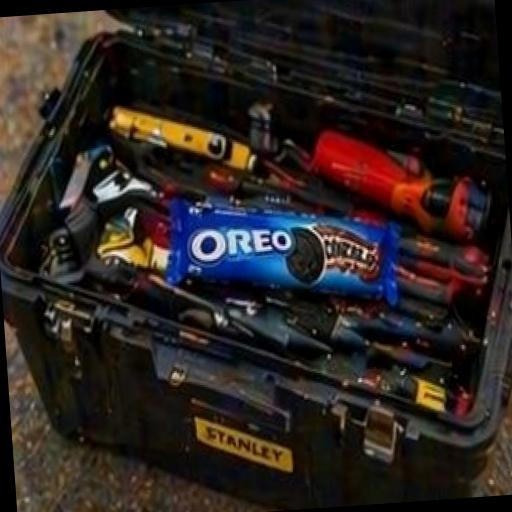oreo: (134, 118, 426, 369)
